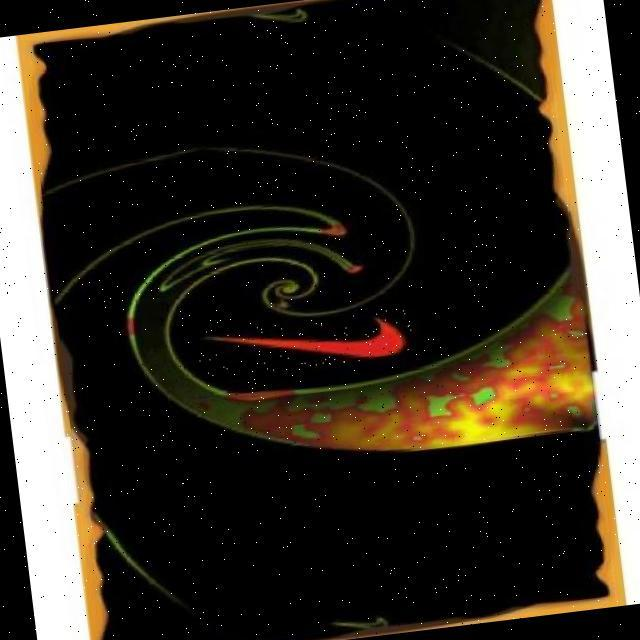Nike: (194, 305, 420, 380)
